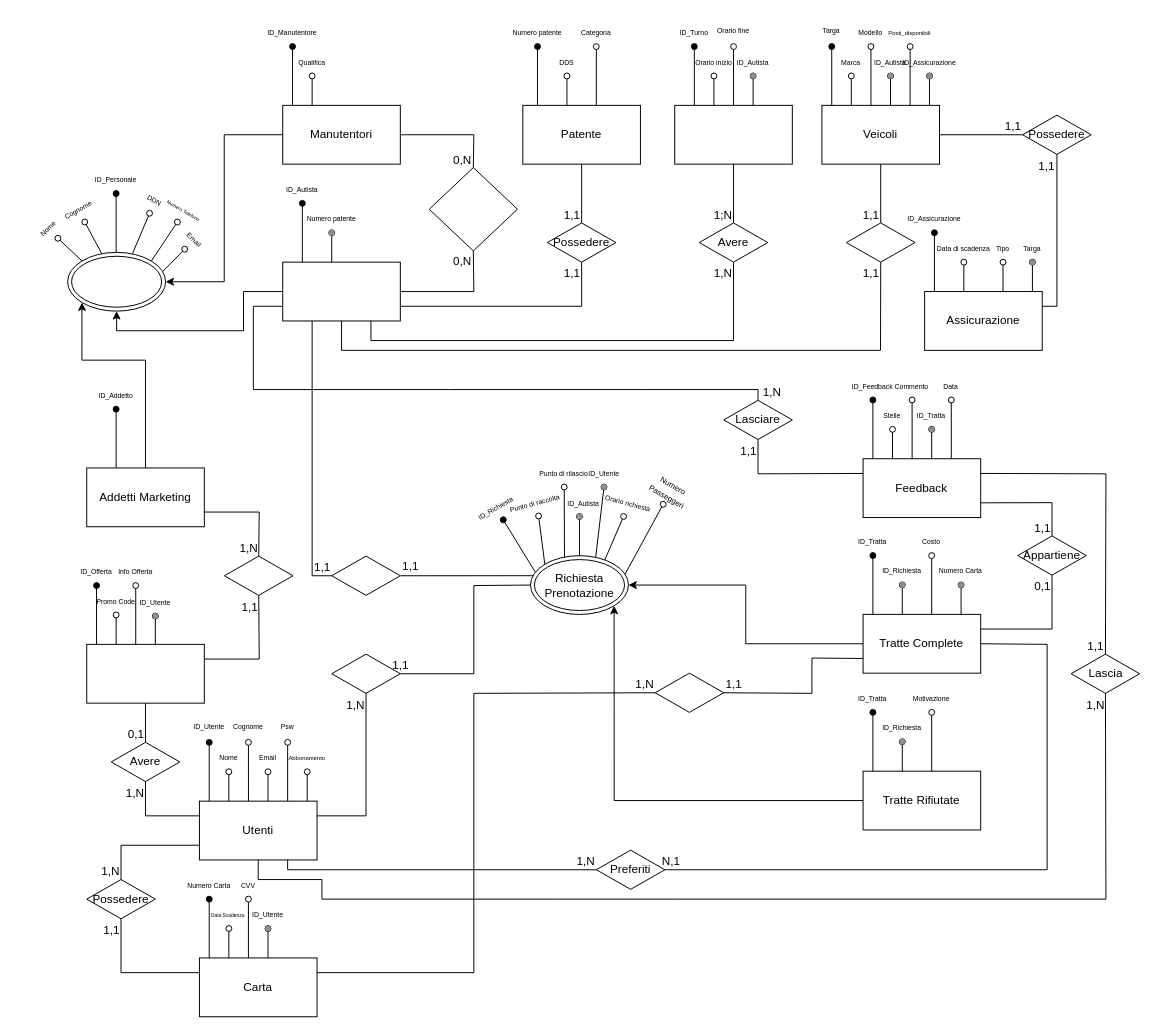
Some shapes in this 1157 by 1034 pixel diagram are drawn without their labels. Each missing label, with the centre of its shape:
"Aggiungere" belongs at [258,575].
"Asseganto a" belongs at [365,575].
"Autisti" belongs at [341,291].
"Contatta per Guasto" belongs at [472,209].
"Effettuare" belongs at [365,673].
"Guidare" belongs at [880,242].
"Offerte" belongs at [145,673].
"Pagare" belongs at [689,692].
"Personale" belongs at [116,281].
"Turni" belongs at [733,134].
